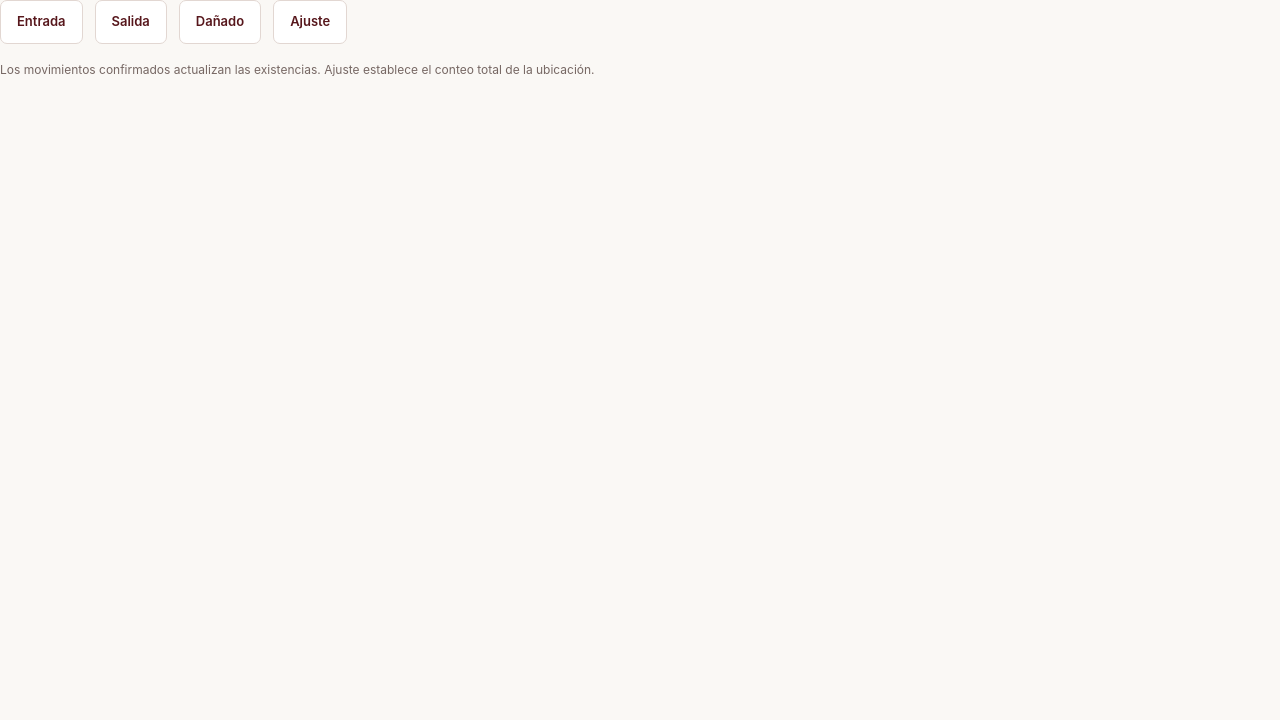
permite al administrador registrar el conteo inicial en cero
Click the button "Ajuste" at (310, 22), box [273,0,347,44]
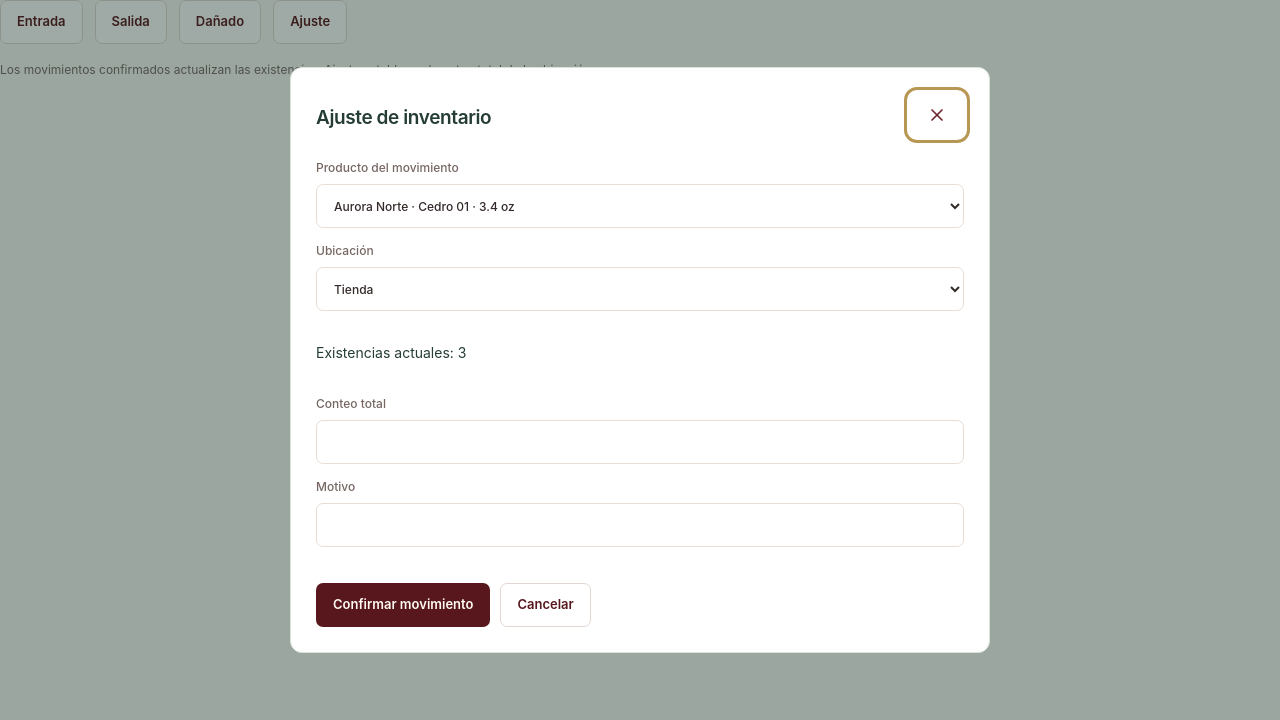
Type "0" into the number field labelled "Conteo total" at (640, 442), box [316,420,964,464]
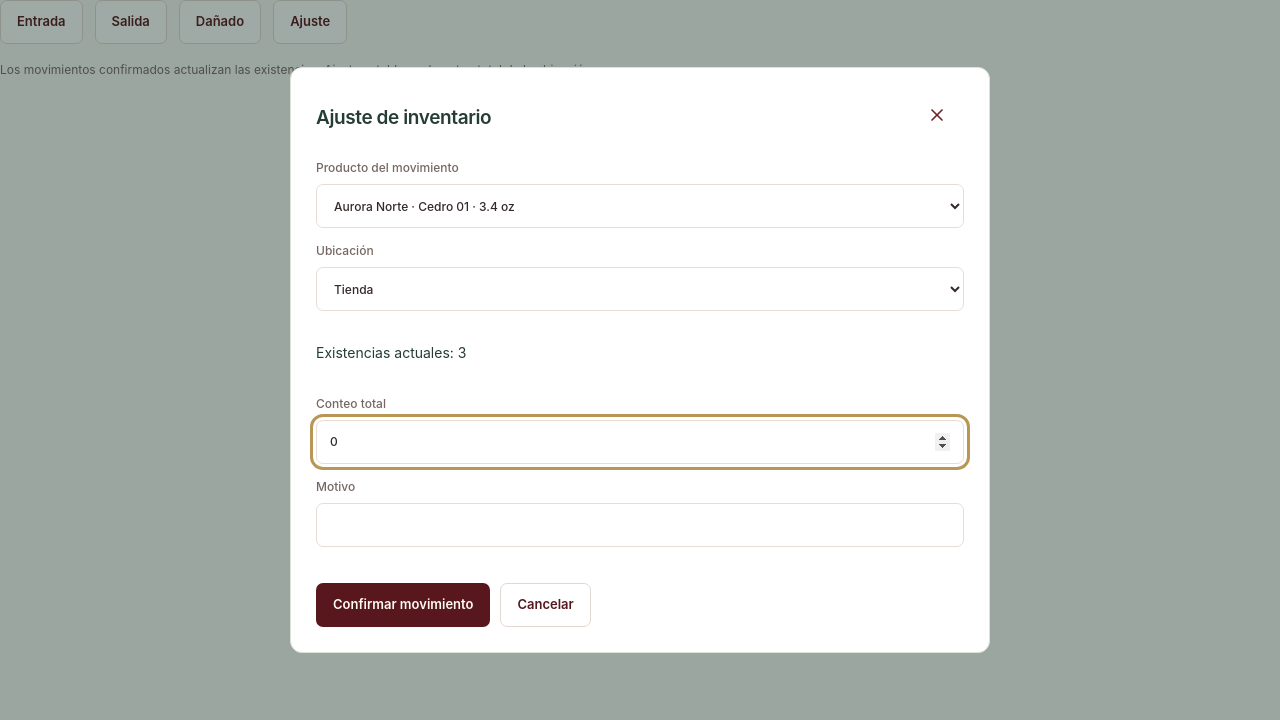
Type "Conteo físico" into the field labelled "Motivo" at (640, 524), box [316,502,964,546]
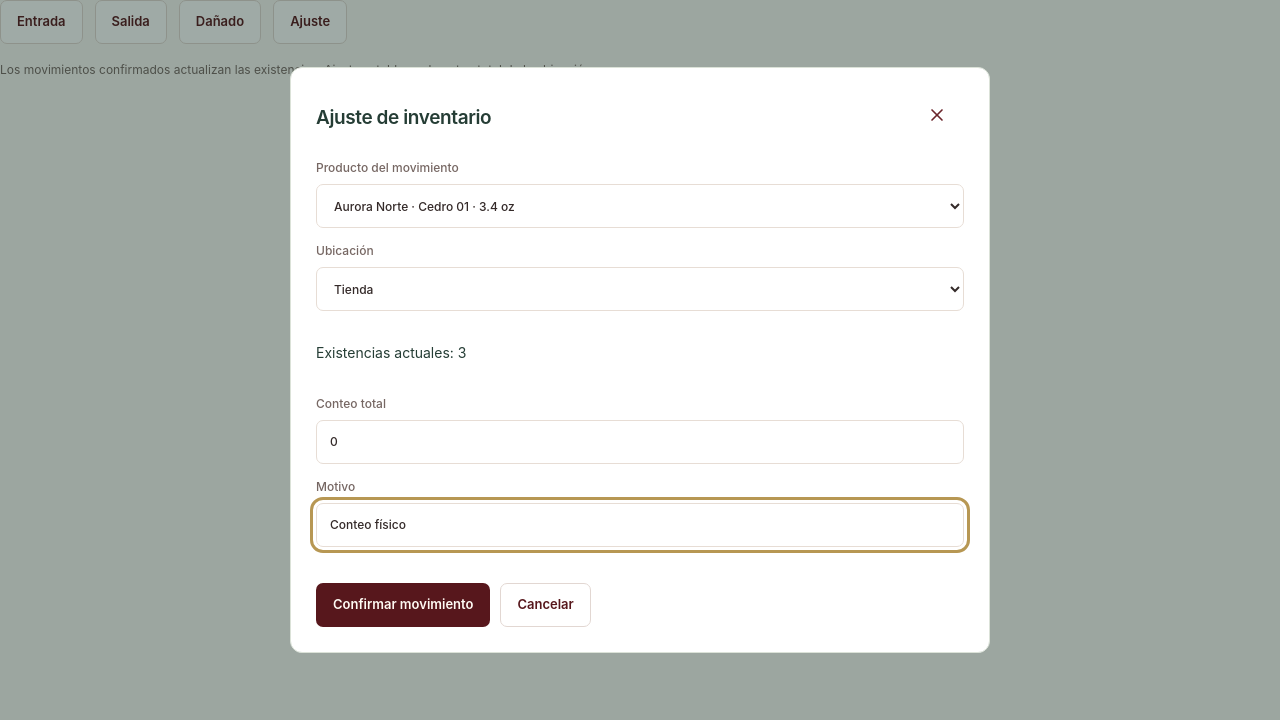
Click the button "Confirmar movimiento" at (403, 604), box [316,582,490,626]
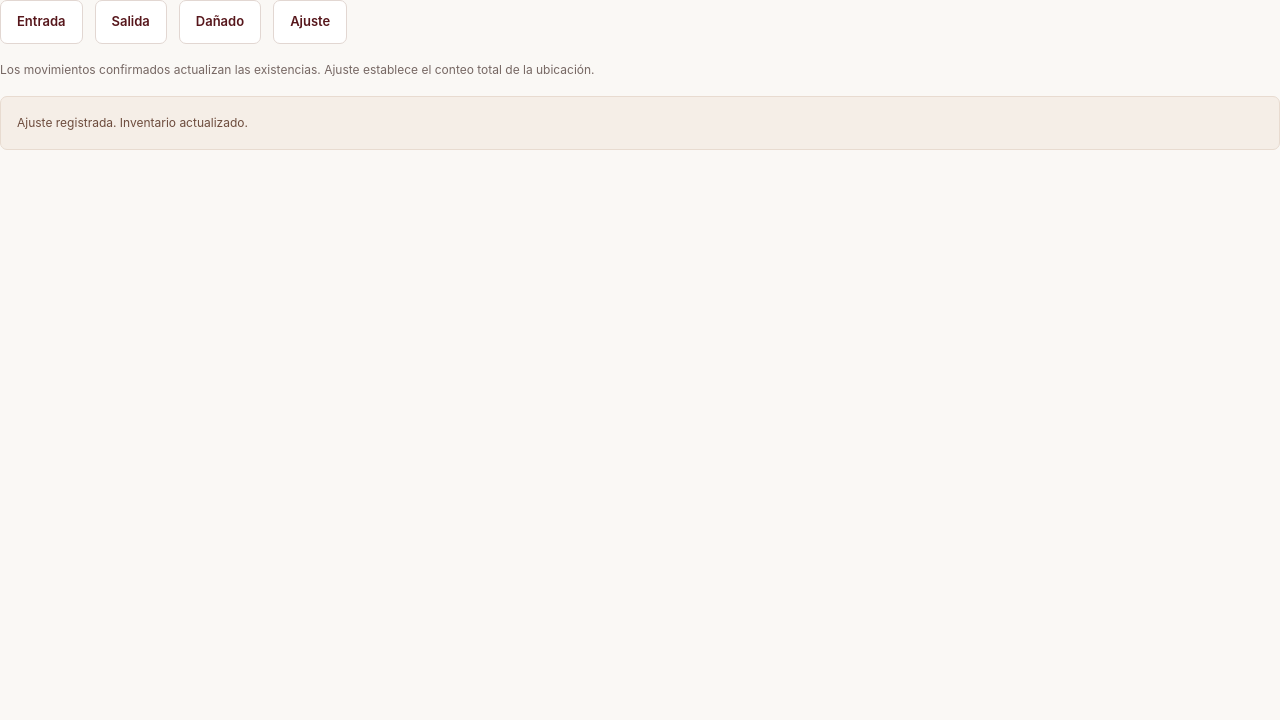
Result: the message shows "Inventario actualizado" at [17,115,248,130]
